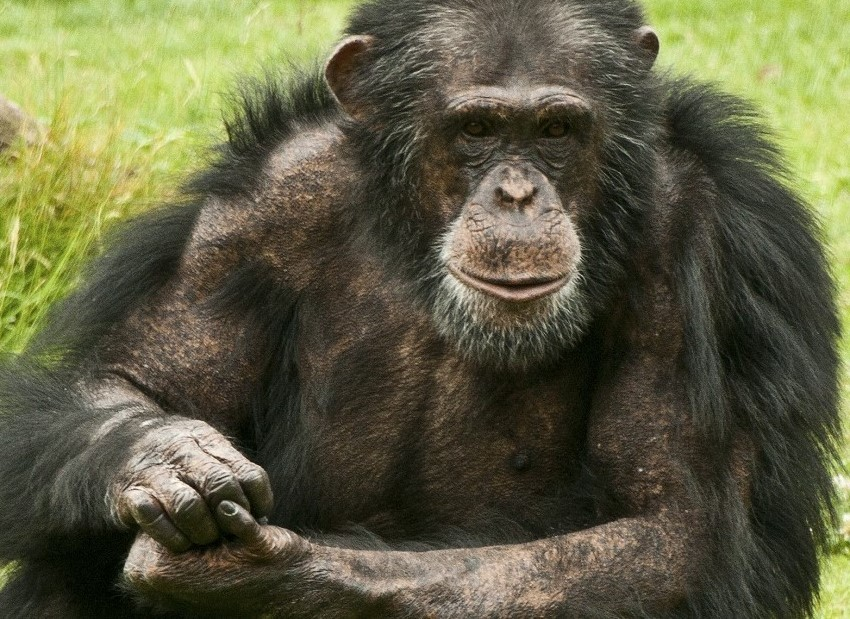Chimpanzee: (160, 1, 807, 619)
